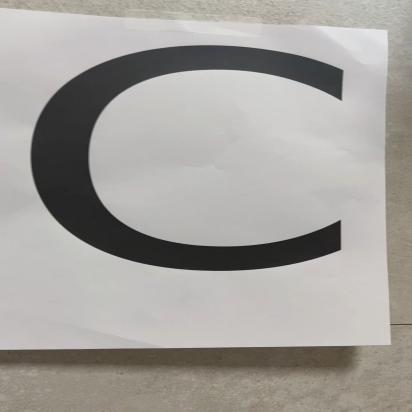seat: (0, 0, 404, 365)
